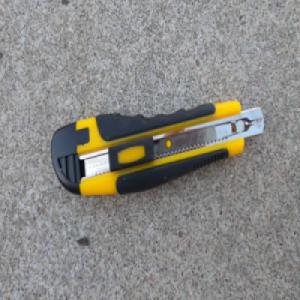Cutter: (50, 98, 264, 197)
